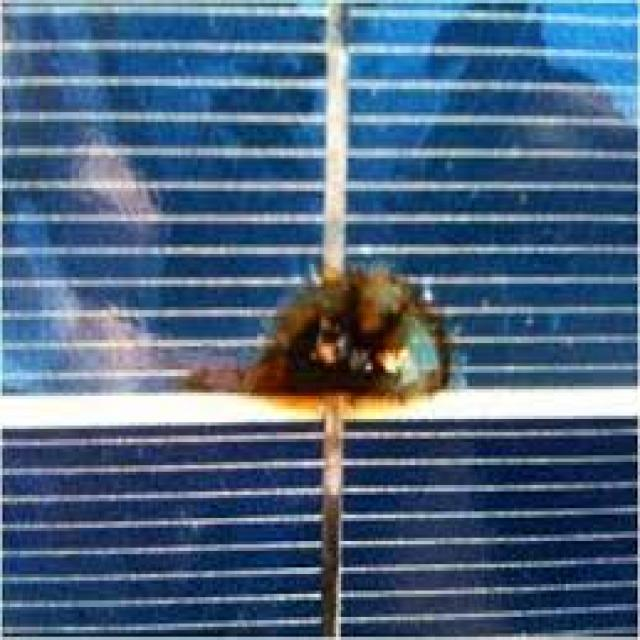faulty: (10, 9, 630, 640)
